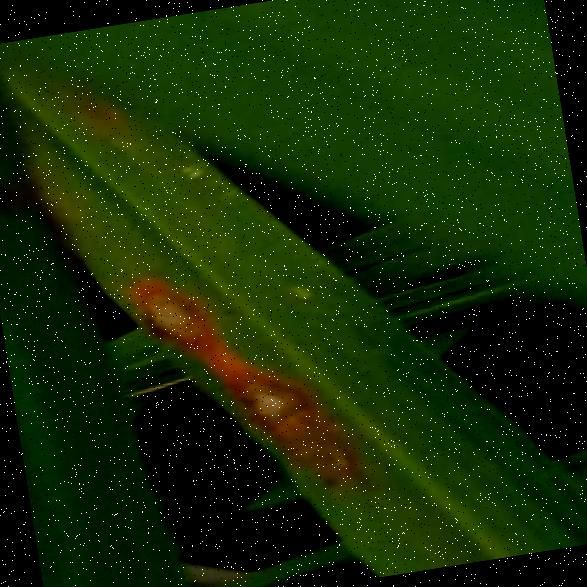Leaf_smut: (197, 334, 382, 504), (111, 240, 221, 362)
